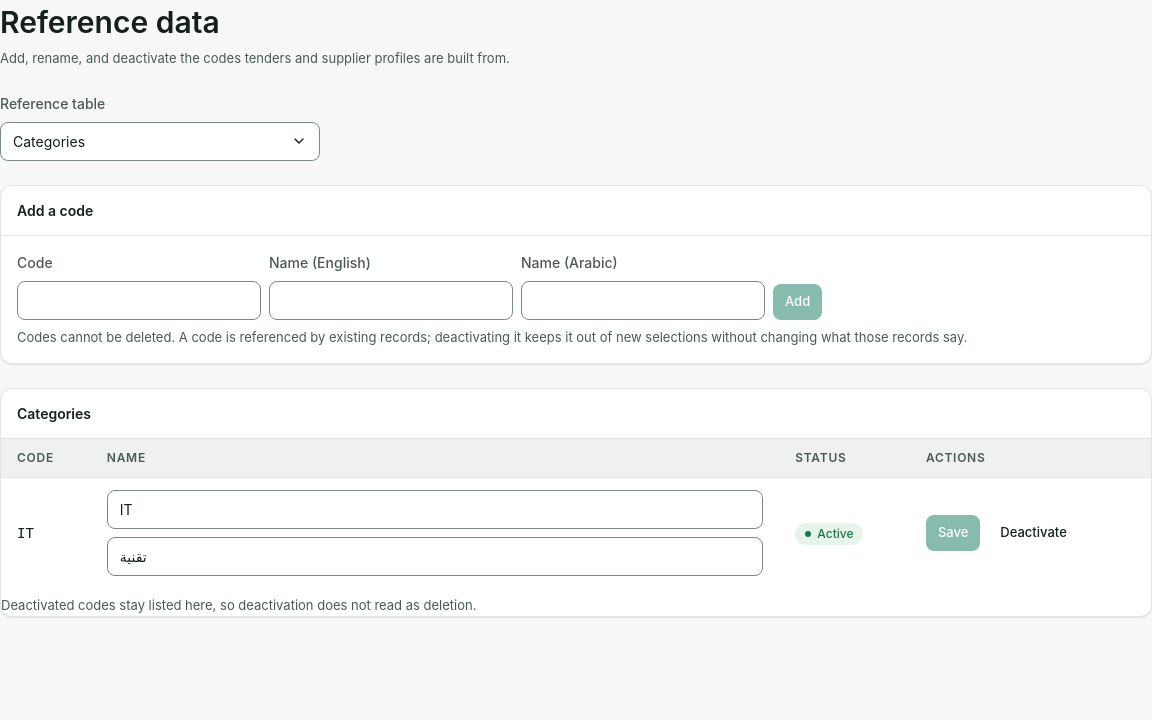
ReferenceDataPage document types (BRULE-023, BRULE-016) › marks the award-critical types and offers the opposite action on each
The width and height of the screenshot is (1152, 720).
Click the dropdown labelled "Categories". click: click(49, 141)
box: x1=0 y1=122 x2=320 y2=160
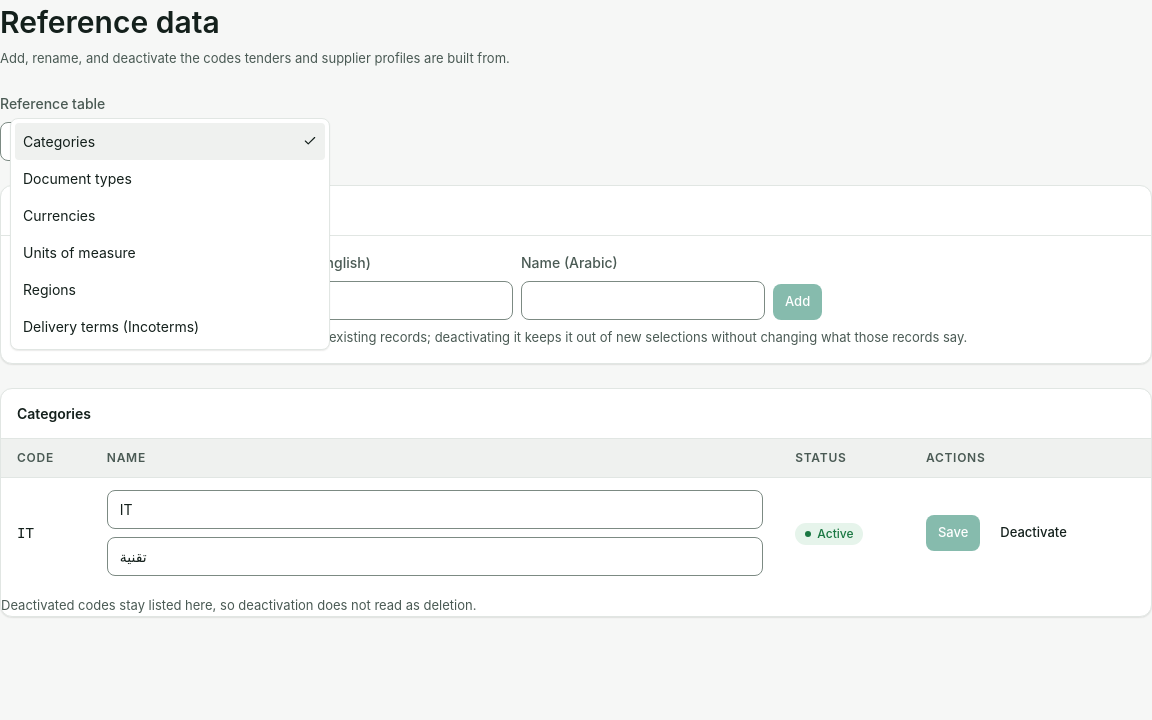
Click the option "Document types". click: click(77, 178)
box: x1=23 y1=170 x2=132 y2=186
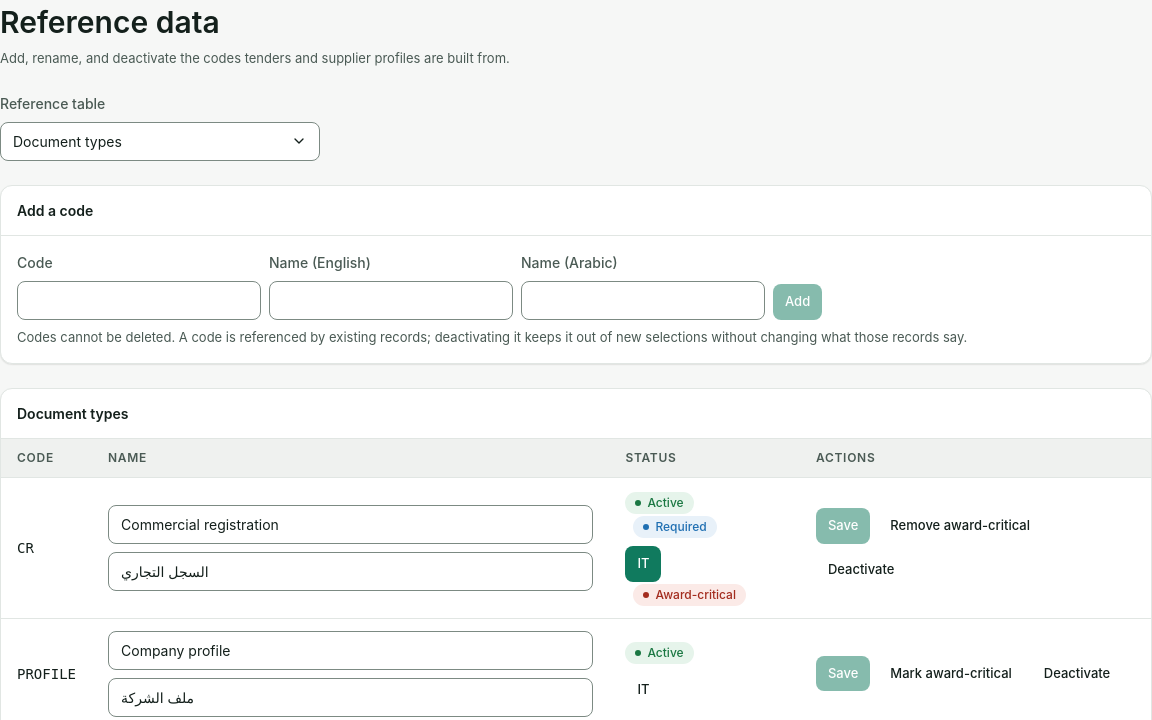
Now the field showing "Commercial registration" is shown, box x1=108 y1=505 x2=593 y2=544
Now the button "Remove award-critical" is shown, box x1=878 y1=508 x2=1042 y2=544
Now the button "Mark award-critical" is shown, box x1=878 y1=656 x2=1024 y2=691
